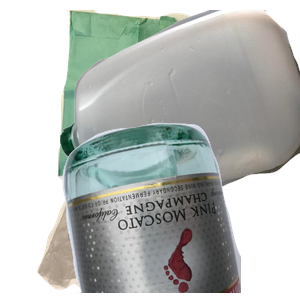glass: (60, 120, 300, 300)
paper: (55, 10, 255, 190)
plastic: (60, 10, 300, 190)
trash: (35, 140, 203, 300)
